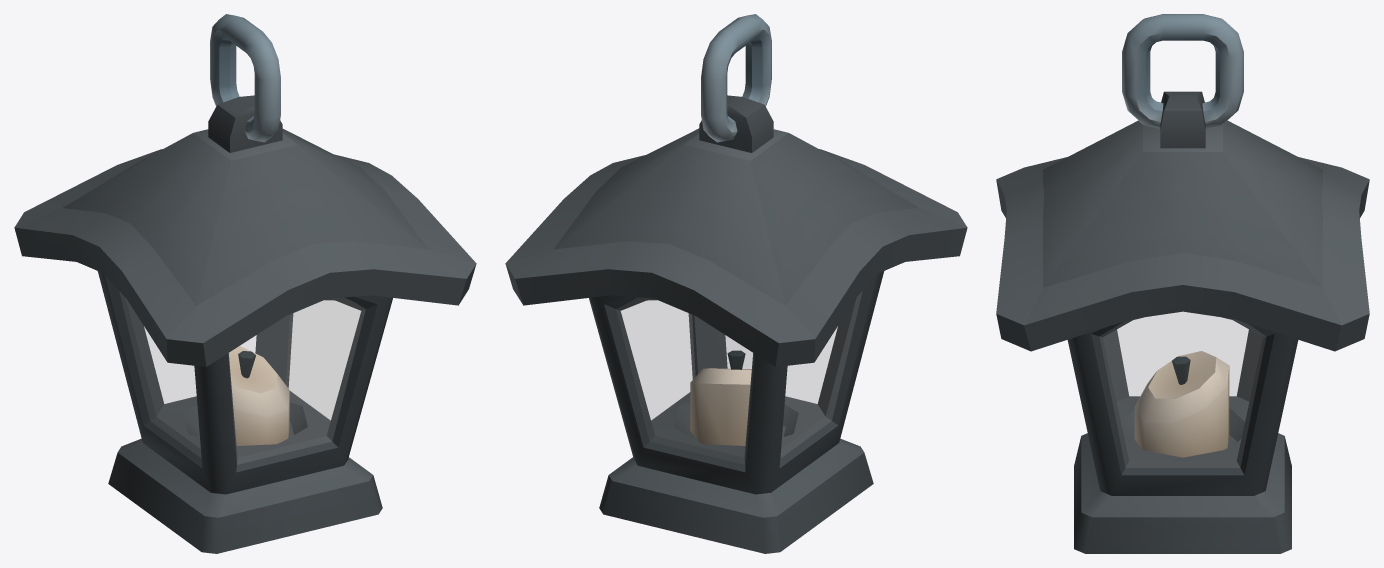
The model's file is lantern.glb.
The picture shows the model from 3 angles, left to right: view 1: azimuth 30°, elevation 25°; view 2: azimuth 150°, elevation 25°; view 3: azimuth 270°, elevation 25°; orthographic projection. The views are drawn at different scales.
Parts seen in each view (by area): view 1: lantern, lantern_handle; view 2: lantern, lantern_handle; view 3: lantern, lantern_handle.
Part boxes in pixels (x1,y1,x2,y2): lantern: [14, 95, 476, 553]; lantern_handle: [210, 14, 280, 142]; lantern: [505, 95, 967, 553]; lantern_handle: [701, 14, 771, 142]; lantern: [996, 91, 1369, 553]; lantern_handle: [1122, 14, 1243, 128].
Bounding box in the file's own units: 0.7528 × 1.11 × 0.7528.
Materials: 2 (1 with a texture image).
